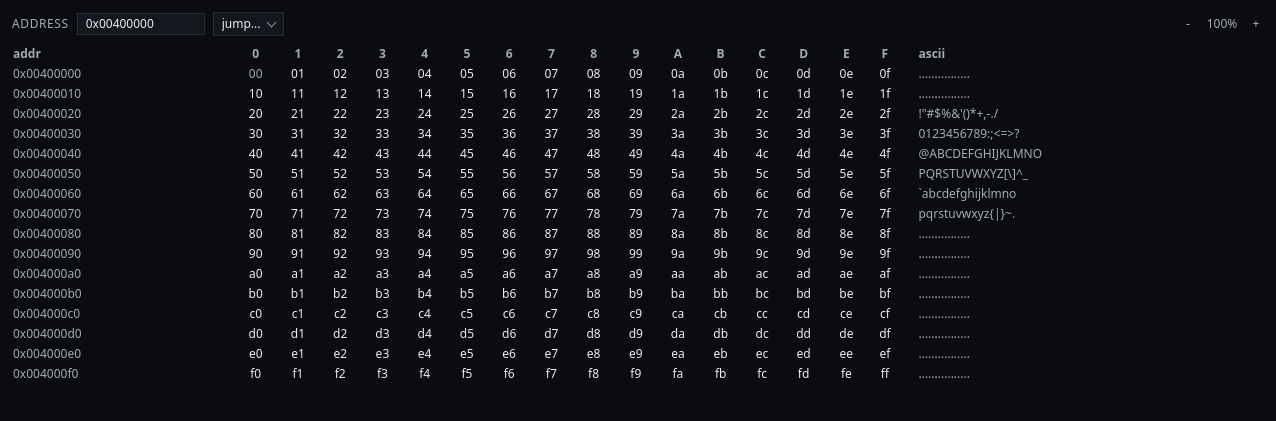
MemoryPanel › holds the window and says so on an unparseable address
Replace the text in the field named "memory base address" with "zz": (141, 24) [77,13,205,35]
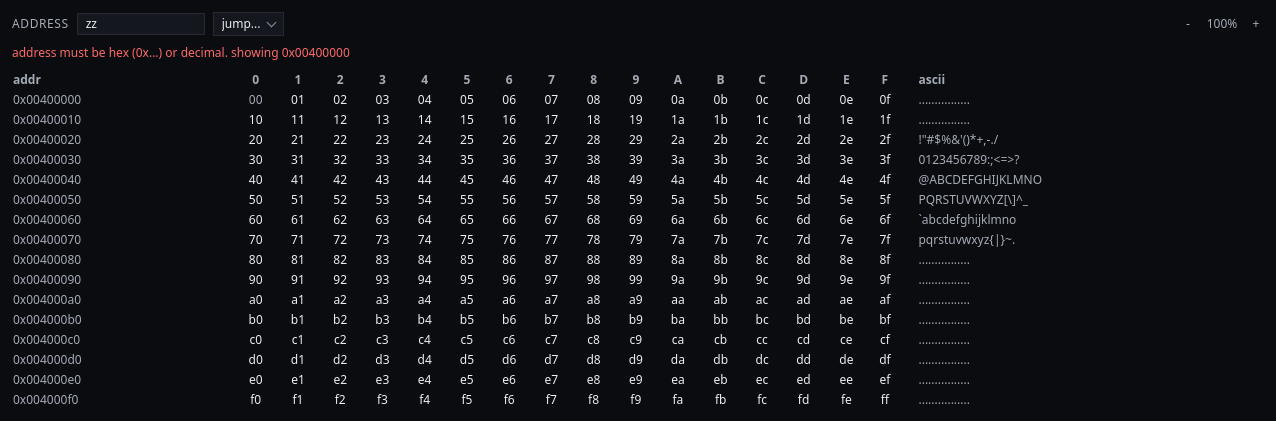
Check: the text "0x00400000" is shown, box [12,90,235,110]
Check: the message shows "hex", box [12,44,278,61]
